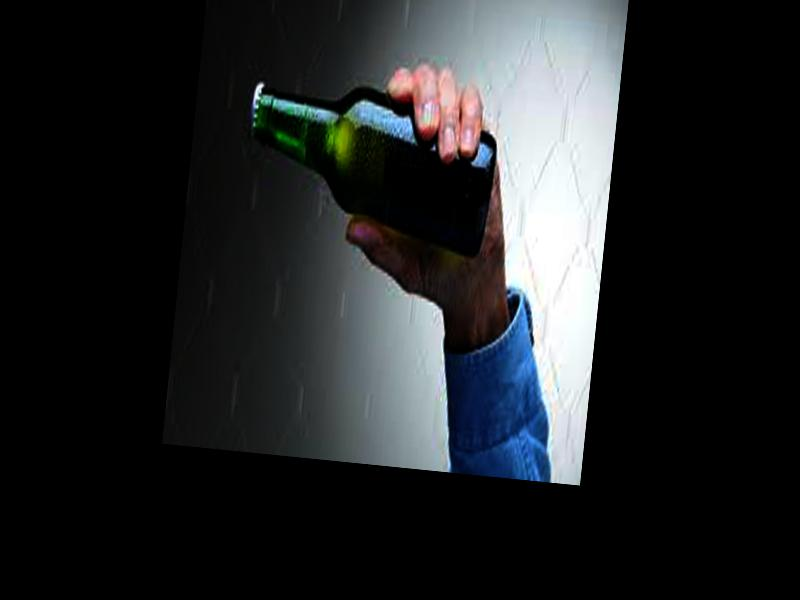Beer: (241, 69, 500, 260)
